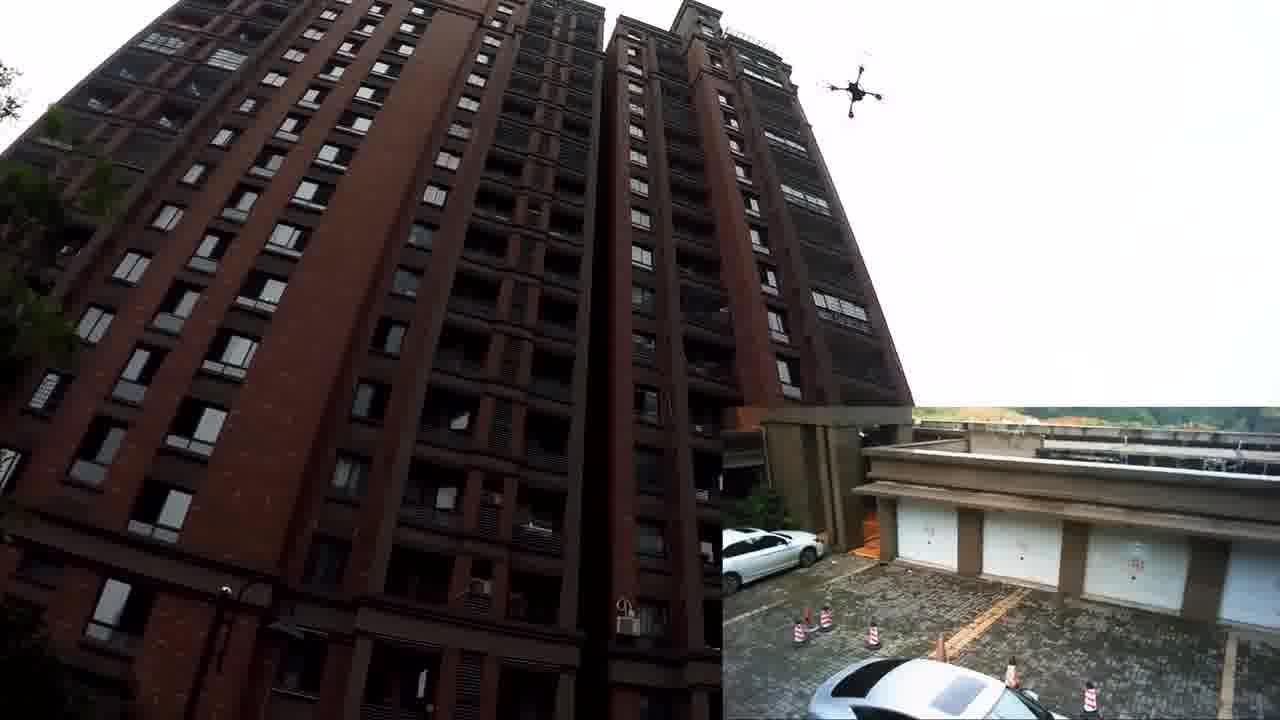drone: (820, 62, 885, 121)
